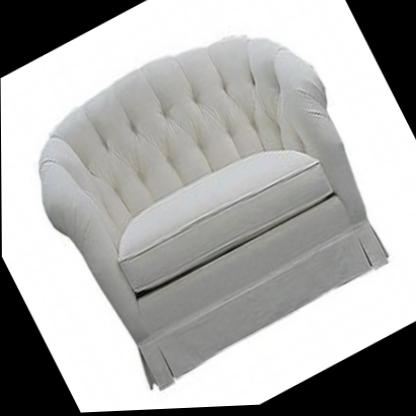Sofa: (3, 0, 413, 408)
